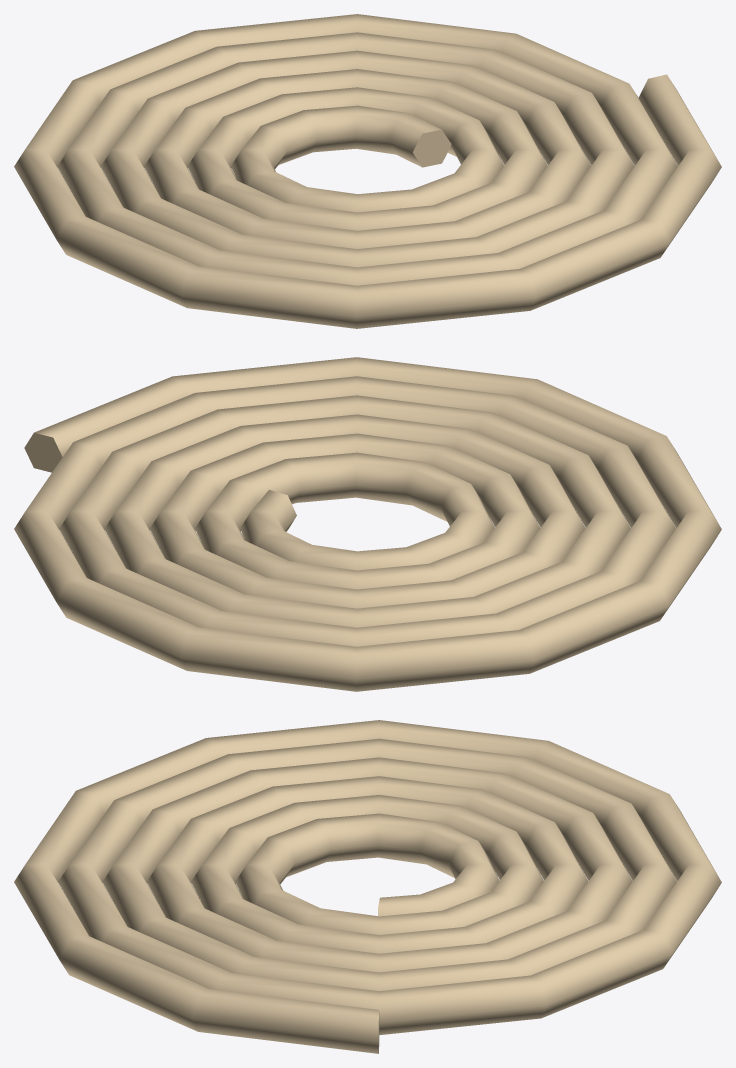
The model's file is Rope.glb.
The picture shows the model from 3 angles, top to bottom: view 1: azimuth 30°, elevation 25°; view 2: azimuth 150°, elevation 25°; view 3: azimuth 270°, elevation 25°; orthographic projection. The views are drawn at different scales.
Parts seen in each view (by area): view 1: rope_coil; view 2: rope_coil; view 3: rope_coil.
Part boxes in pixels (box(x1,y1,x2,y2)): rope_coil: box(14, 14, 721, 328); rope_coil: box(14, 357, 721, 691); rope_coil: box(14, 720, 721, 1053).
Bounding box in the file's own units: 0.495 × 0.026 × 0.48.
